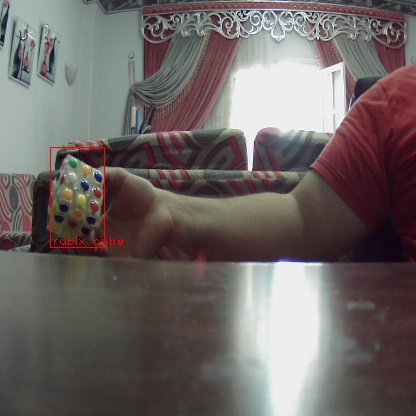Rubix Cube: (53, 162, 98, 233)
